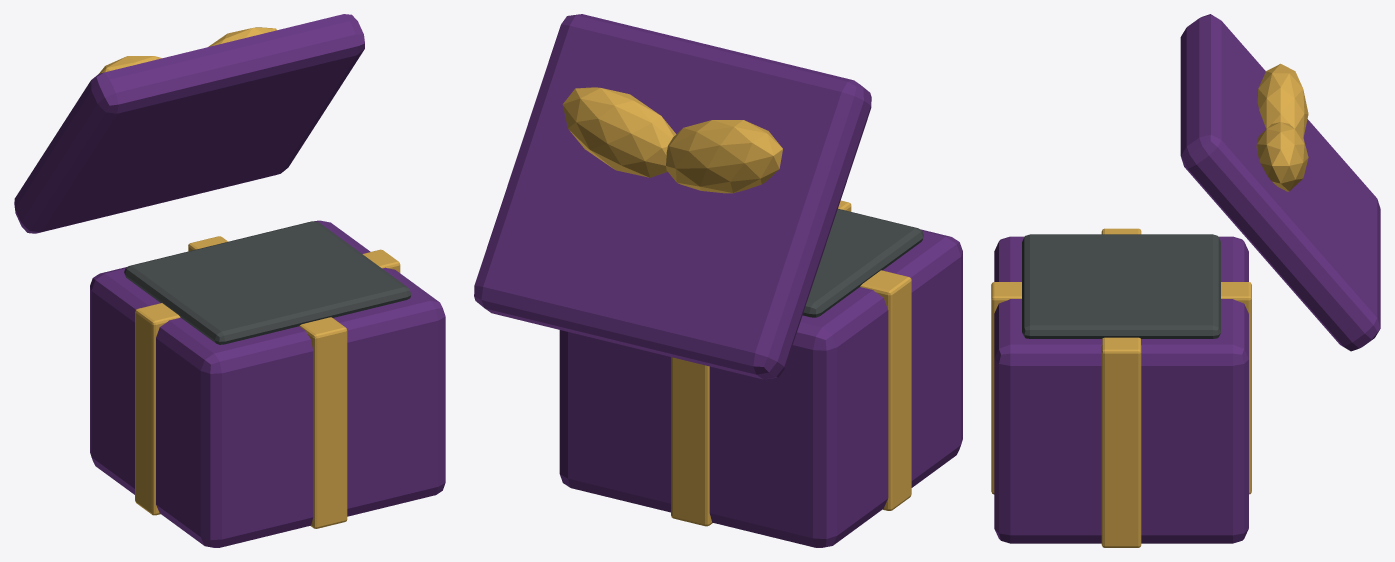
The model's file is gift-open.glb.
3 renders of one model, left to right at view 1: azimuth 30°, elevation 25°; view 2: azimuth 150°, elevation 25°; view 3: azimuth 270°, elevation 25°, orthographic. The views are drawn at different scales.
Parts seen in each view (by area): view 1: gift_body, gift_lid, gift_inner, gift_ribbon_front, gift_ribbon_side; view 2: gift_lid, gift_body, gift_bow.001, gift_bow, gift_ribbon_front, gift_inner, gift_ribbon_side; view 3: gift_body, gift_lid, gift_inner, gift_ribbon_side, gift_bow.001, gift_bow, gift_ribbon_front.
Part boxes in pixels (left/top/right/bottom): gift_body: left=90, top=220, right=445, bottom=547; gift_lid: left=14, top=14, right=364, bottom=233; gift_inner: left=124, top=221, right=411, bottom=344; gift_ribbon_front: left=188, top=236, right=347, bottom=528; gift_ribbon_side: left=135, top=249, right=400, bottom=515; gift_lid: left=474, top=14, right=871, bottom=379; gift_body: left=559, top=229, right=962, bottom=547; gift_bow.001: left=562, top=87, right=676, bottom=177; gift_bow: left=666, top=120, right=782, bottom=193; gift_ribbon_front: left=671, top=200, right=851, bottom=526; gift_inner: left=802, top=208, right=923, bottom=317; gift_ribbon_side: left=860, top=270, right=911, bottom=510; gift_body: left=994, top=236, right=1248, bottom=543; gift_lid: left=1180, top=14, right=1380, bottom=351; gift_inner: left=1022, top=234, right=1220, bottom=338; gift_ribbon_side: left=1101, top=228, right=1141, bottom=547; gift_bow.001: left=1256, top=122, right=1308, bottom=191; gift_bow: left=1257, top=63, right=1308, bottom=137; gift_ribbon_front: left=991, top=282, right=1251, bottom=494.
Bounding box in the file's own units: 0.79 × 1.15 × 0.9787.
